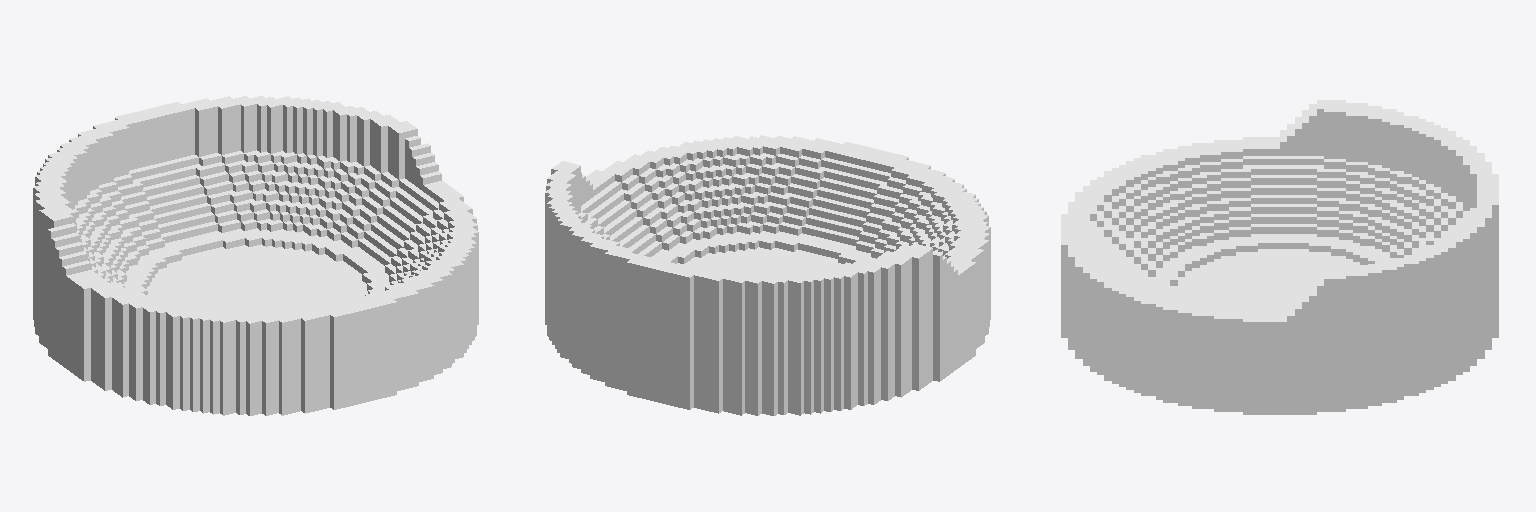
The model's file is coroseo.obj.
3 views of the same model, side by side, from view 1: azimuth 30°, elevation 25°; view 2: azimuth 150°, elevation 25°; view 3: azimuth 270°, elevation 25° (orthographic).
Parts seen in each view (by area): view 1: object 1; view 2: object 1; view 3: object 1.
Boxes of the visible parts, x1,y1,x2,y2 form: object 1: [33, 96, 478, 415]; object 1: [545, 135, 990, 415]; object 1: [1061, 100, 1498, 414].
Size of the model in its own units: 12 by 4 by 12.